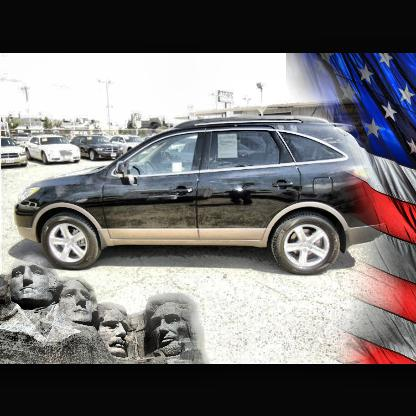Hyundai Veracruz SUV 2012: (16, 115, 385, 276)
